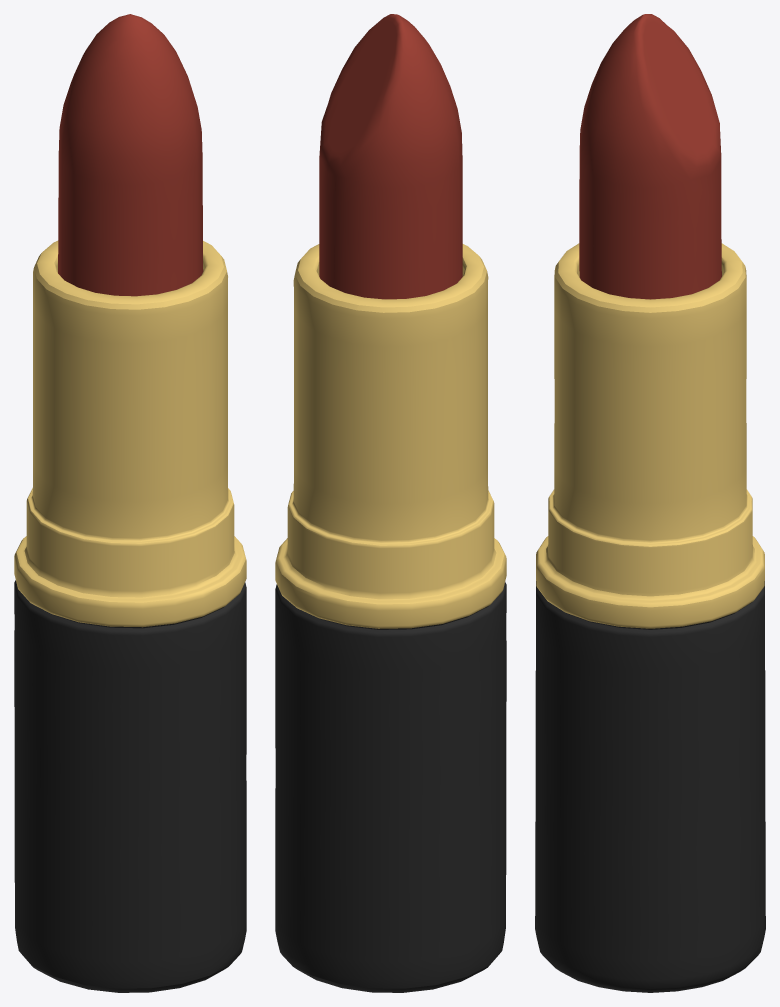
Rendered from lipstick.fbx.
The picture shows the model from 3 angles, left to right: view 1: azimuth 30°, elevation 25°; view 2: azimuth 150°, elevation 25°; view 3: azimuth 270°, elevation 25°; orthographic projection.
Visible parts, largest first — view 1: Tube_Bottom, Tube_Top, Lipstick; view 2: Tube_Bottom, Tube_Top, Lipstick; view 3: Tube_Bottom, Tube_Top, Lipstick.
Part boxes in pixels (bbox=[...]): Tube_Bottom: bbox=[14, 580, 246, 992]; Tube_Top: bbox=[14, 240, 246, 627]; Lipstick: bbox=[58, 14, 203, 296]; Tube_Bottom: bbox=[275, 582, 506, 992]; Tube_Top: bbox=[275, 244, 506, 628]; Lipstick: bbox=[319, 14, 462, 299]; Tube_Bottom: bbox=[535, 581, 765, 992]; Tube_Top: bbox=[536, 243, 764, 628]; Lipstick: bbox=[579, 14, 721, 299].
Size of the model in its own units: 0.6648 by 2.95 by 0.6613.
